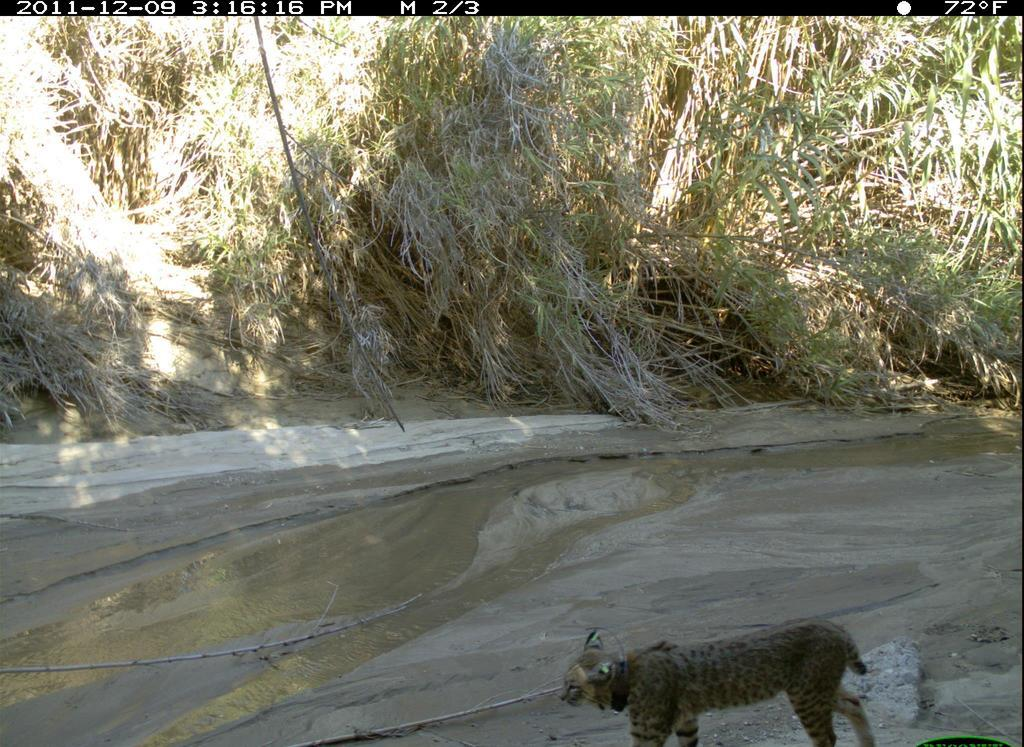bobcat: (564, 617, 882, 747)
